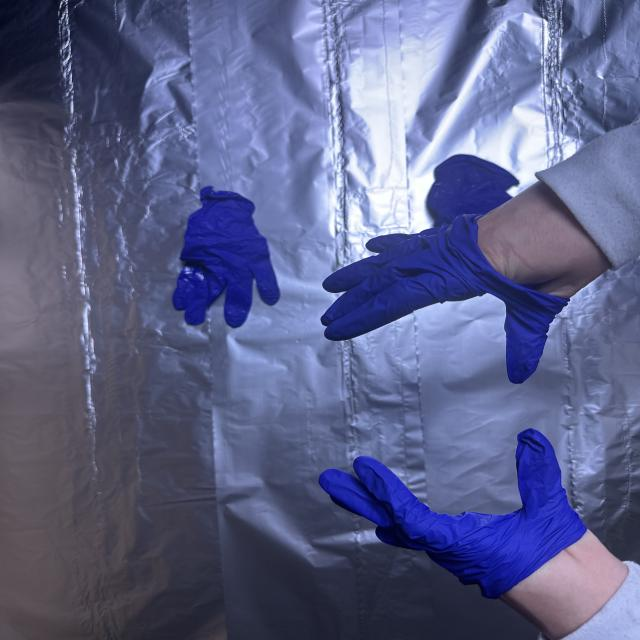glove_partial: (311, 424, 632, 640), (314, 175, 615, 385)
